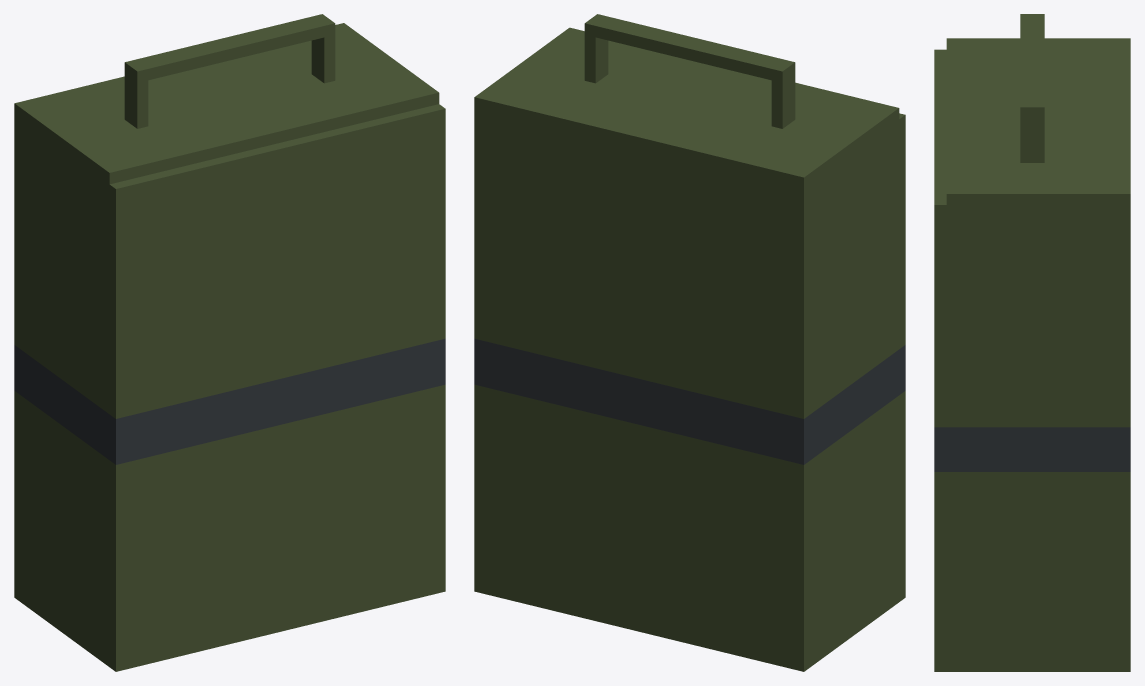
Rendered from jerry_can.glb.
3 views of the same model, side by side, from view 1: azimuth 30°, elevation 25°; view 2: azimuth 150°, elevation 25°; view 3: azimuth 270°, elevation 25° (orthographic). The views are drawn at different scales.
Parts seen in each view (by area): view 1: package:carton; view 2: package:carton; view 3: package:carton.
Part boxes in pixels (x1,y1,x2,y2): package:carton: [14, 14, 445, 671]; package:carton: [474, 14, 905, 671]; package:carton: [934, 14, 1130, 671].
Size of the model in its own units: 0.3 by 0.48 by 0.16.
